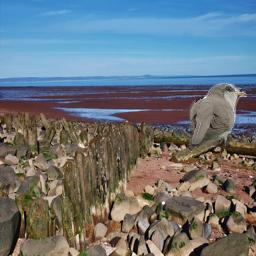Cuckoo: (187, 83, 247, 148)
